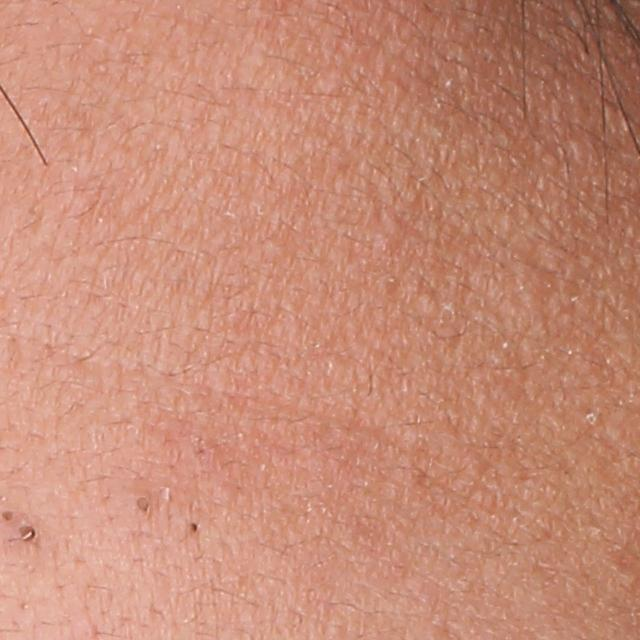comedo: (561, 138, 595, 160), (19, 523, 38, 544), (188, 518, 205, 538)
